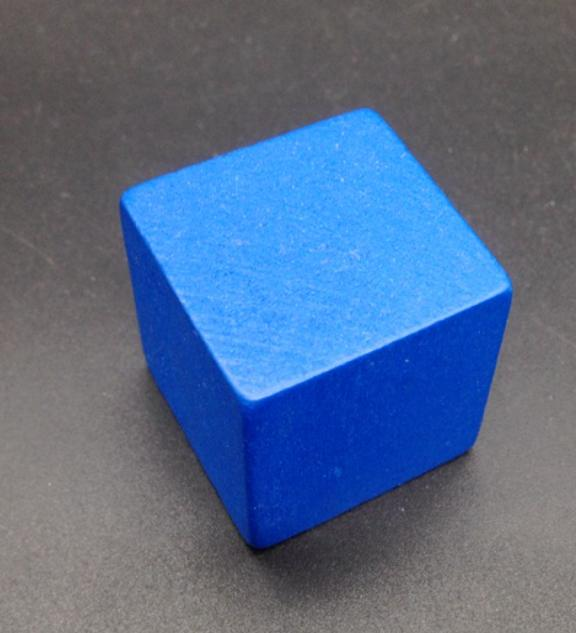bluecube: (118, 107, 514, 555)
